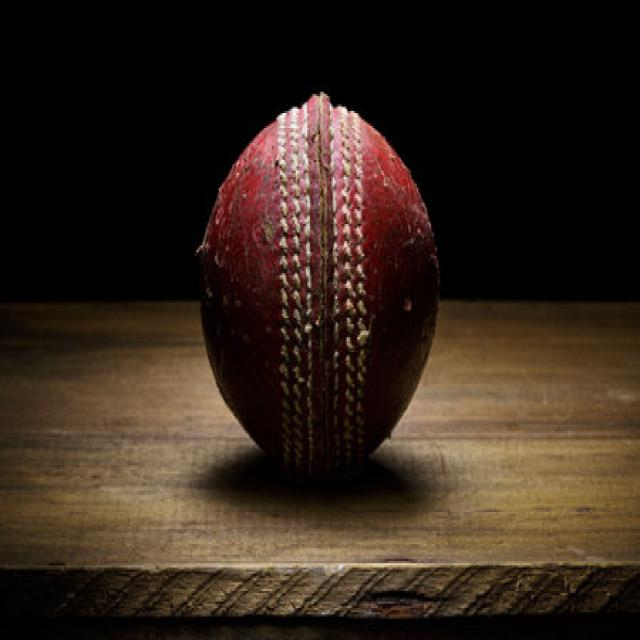ball: (192, 89, 449, 478)
